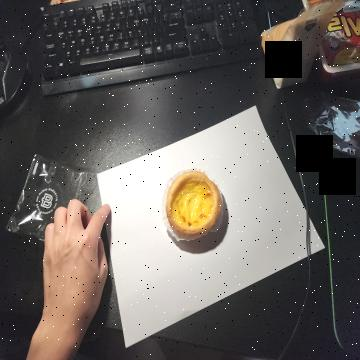EggTart: (165, 168, 221, 240)
